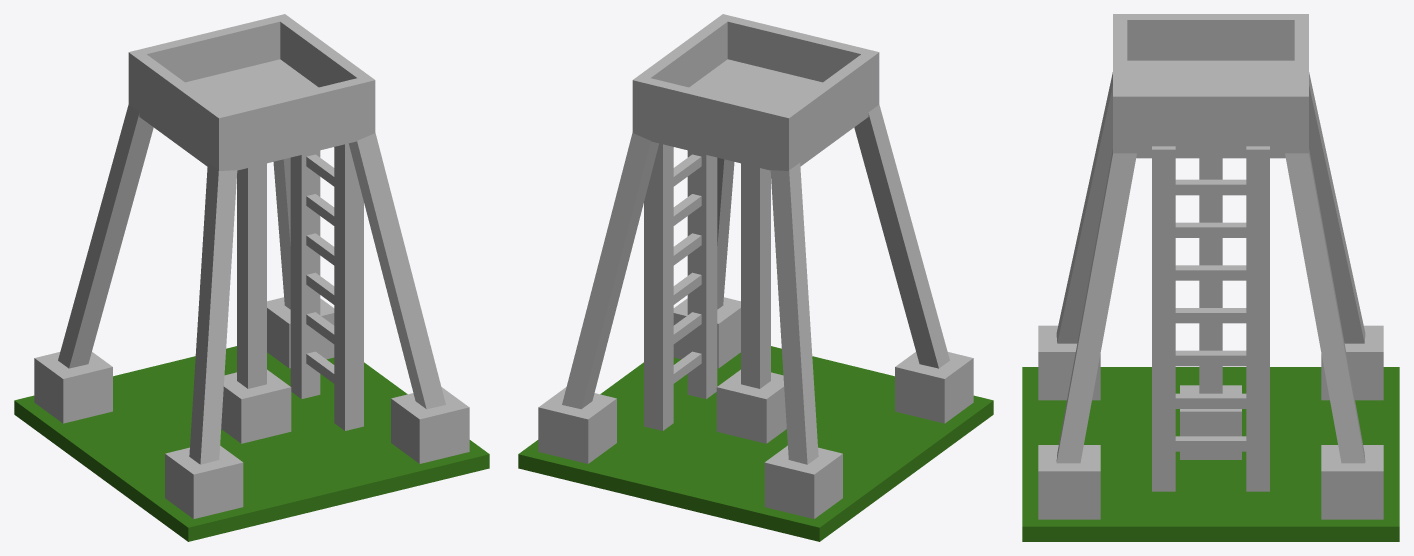
File: lvl17.glb
3 renders of one model, left to right at view 1: azimuth 30°, elevation 25°; view 2: azimuth 150°, elevation 25°; view 3: azimuth 270°, elevation 25°, orthographic. The views are drawn at different scales.
Visible parts, largest first — view 1: Plane.016; view 2: Plane.016; view 3: Plane.016.
Part boxes in pixels (<box>): Plane.016: <box>14,14,489,541</box>; Plane.016: <box>518,14,993,541</box>; Plane.016: <box>1022,14,1399,541</box>.
Size of the model in its own units: 4 by 4.76 by 4.
